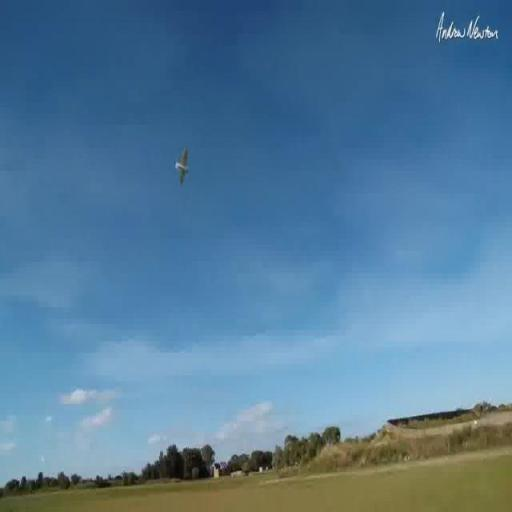uav: (170, 132, 201, 189)
